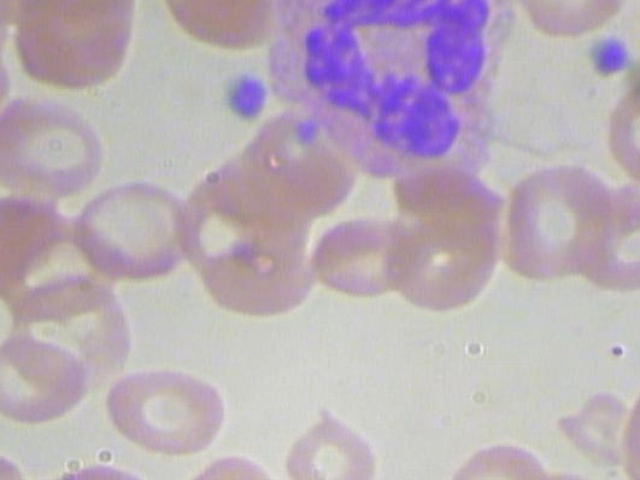Platelets: (585, 31, 639, 86), (221, 71, 270, 119)
RBC: (61, 172, 209, 288), (479, 165, 627, 281), (0, 0, 148, 96), (0, 89, 119, 205), (99, 367, 234, 458), (306, 212, 425, 302), (561, 179, 640, 295), (0, 337, 97, 428), (279, 401, 377, 480), (428, 435, 550, 480), (600, 66, 640, 181), (606, 353, 640, 480)
WBC: (262, 0, 514, 182)
